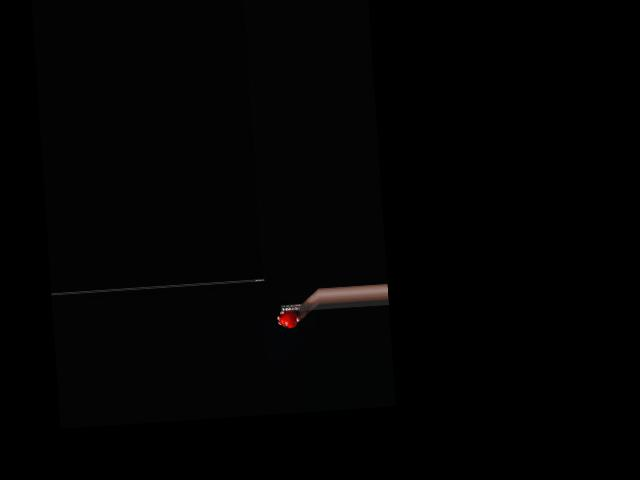tomato: (278, 310, 297, 329)
